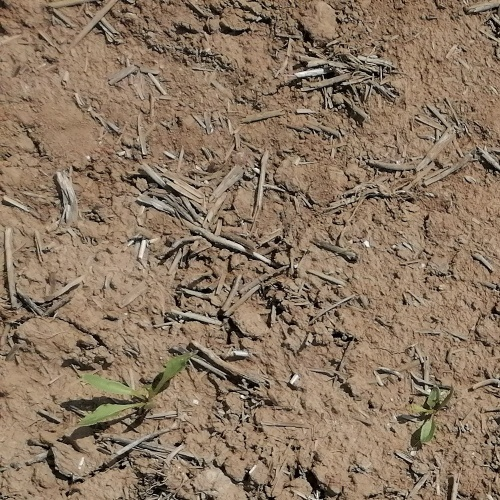beet: (76, 351, 199, 427), (409, 383, 457, 444)
